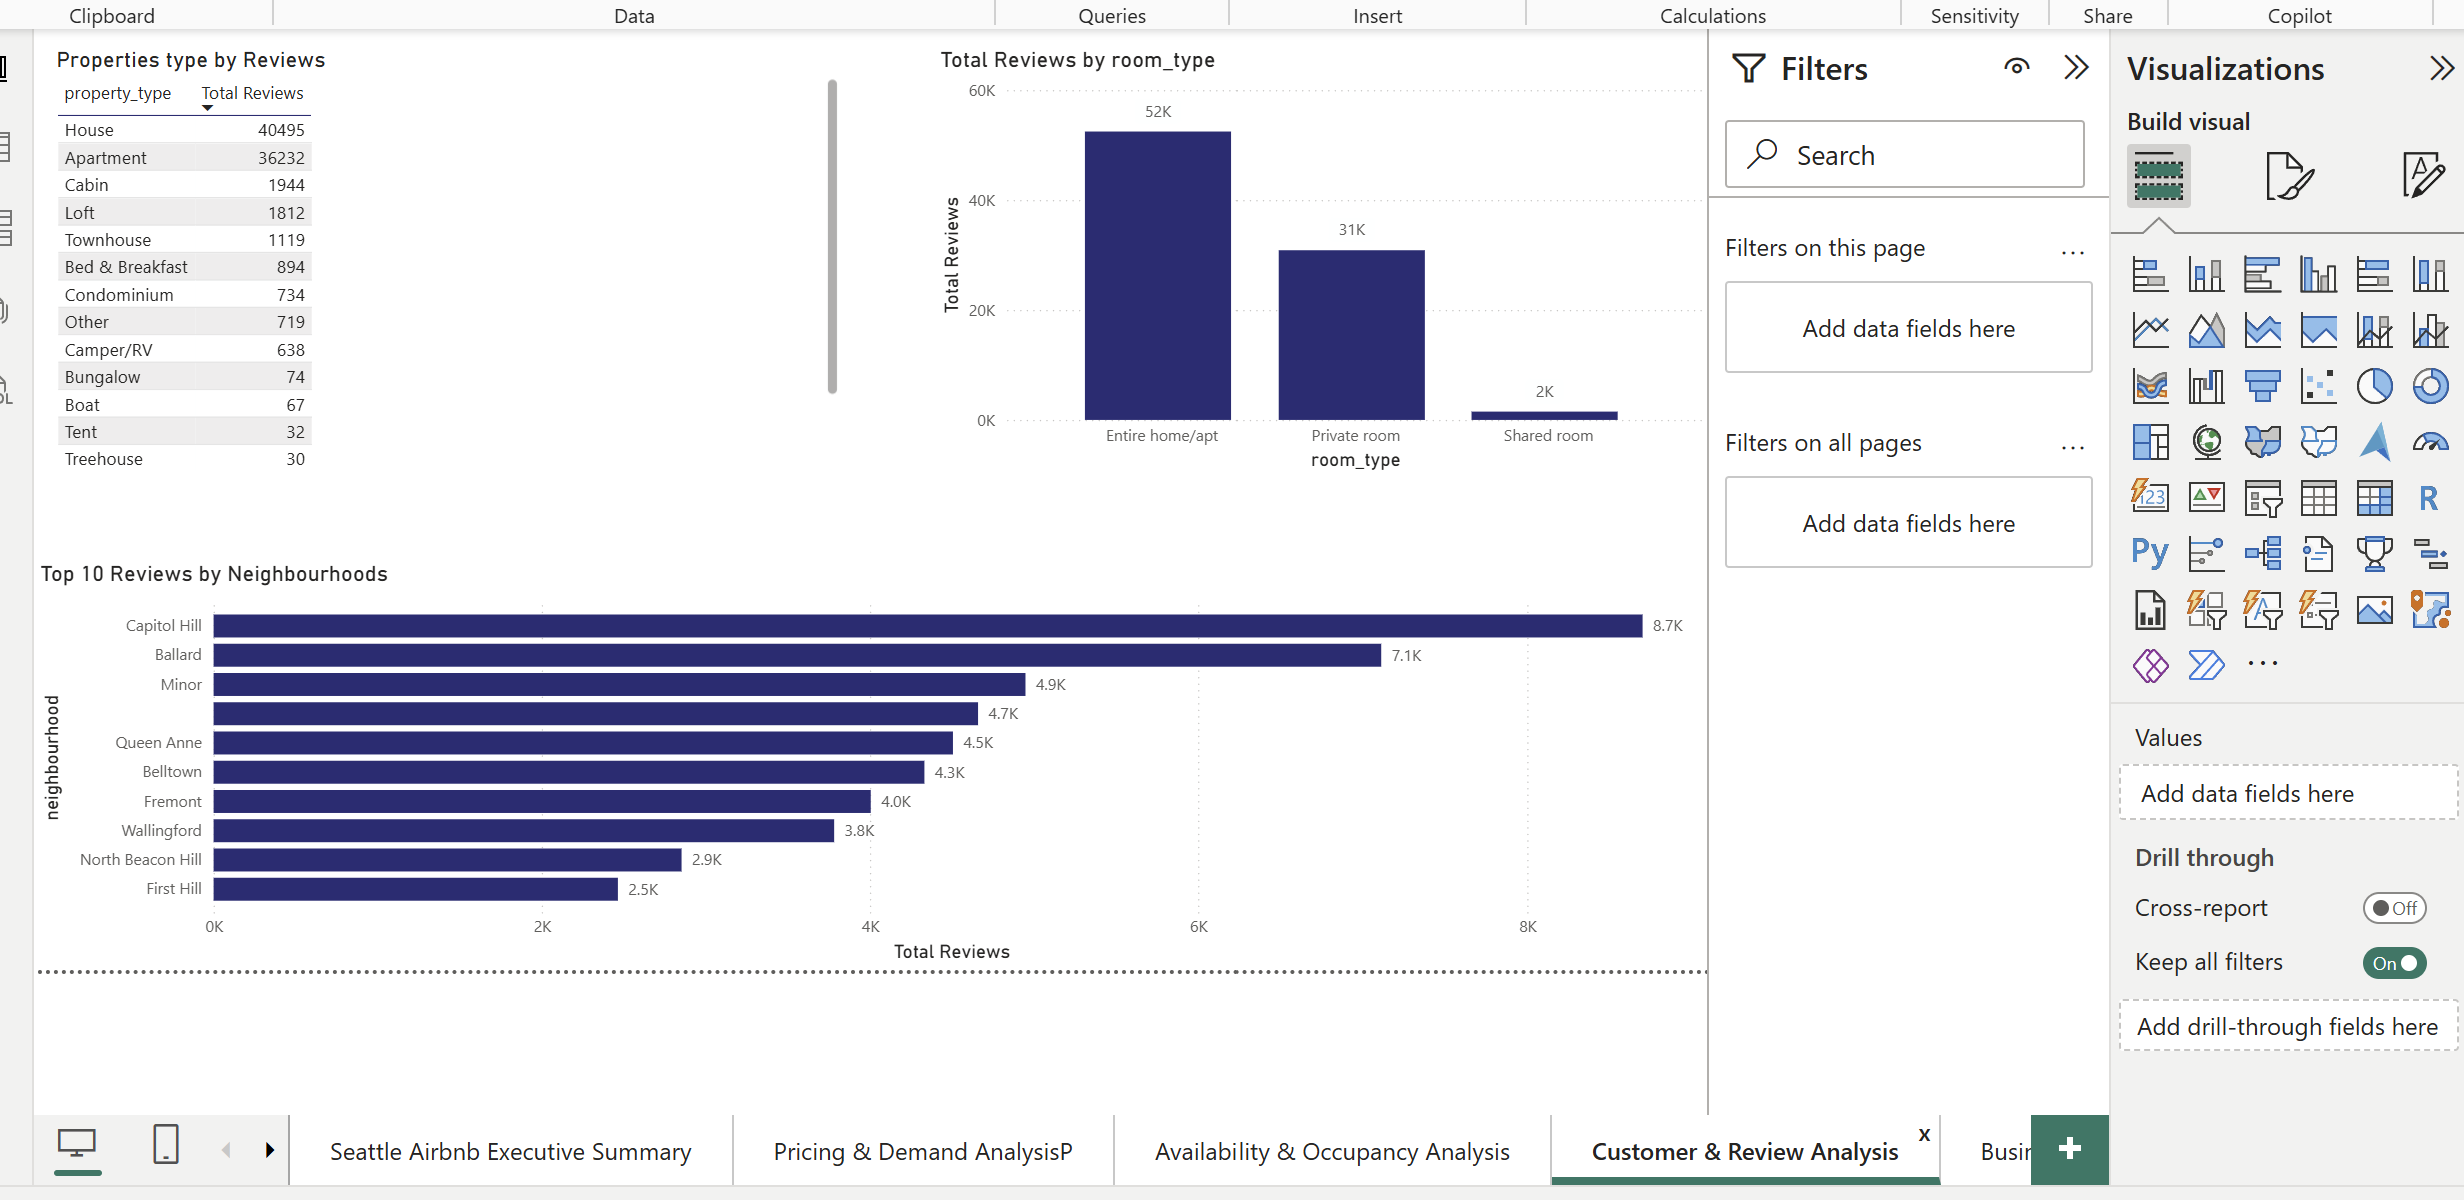

This screenshot's page, from the dashboard's own definition file:
{"tool":"powerbi","page":{"name":"Customer & Review Analysis","canvas":[1280,720],"ordinal":3},"visuals":[{"type":"barChart","title":"Top 10 Reviews by Neighbourhoods","fields":{"Category":["listings.neighbourhood"],"Y":["calendar.Total Reviews"]},"box":[0,407.8,1280,311.9],"z":0},{"type":"tableEx","title":"Properties type  by Reviews","fields":{"Values":["listings.property_type","calendar.Total Reviews"]},"box":[12,13.7,608.3,329],"z":1000},{"type":"lineClusteredColumnComboChart","fields":{"Category":["listings.room_type"],"Y":["calendar.Total Reviews"]},"box":[688.8,13.7,592.9,329],"z":2000}]}

Visuals, with their boxes on the page's 1280x720 design canvas (x1, y1, x2, y2). These are canvas units, not pixel positions in the 2464x1200 screenshot, which may show the page scaled, cropped or inside an application window:
"Top 10 Reviews by Neighbourhoods" barChart: <region>0, 408, 1280, 720</region>
"Properties type  by Reviews" tableEx: <region>12, 14, 620, 343</region>
lineClusteredColumnComboChart - listings.room_type x calendar.Total Reviews: <region>689, 14, 1282, 343</region>
